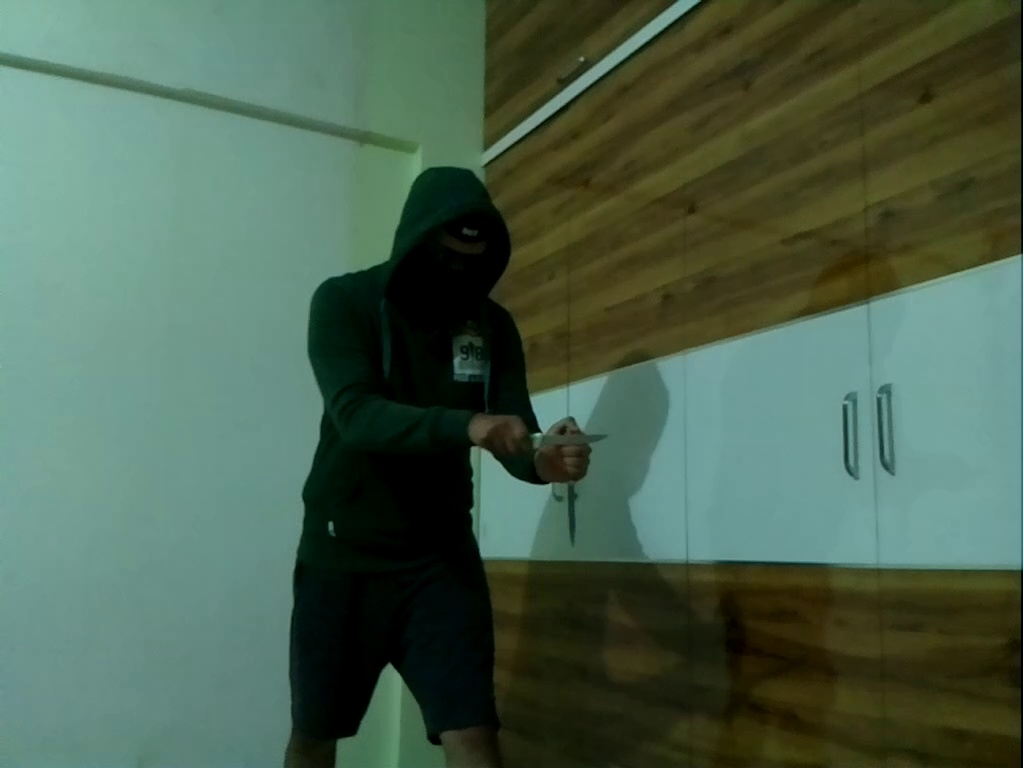knife: (504, 421, 616, 452), (556, 464, 590, 553)
